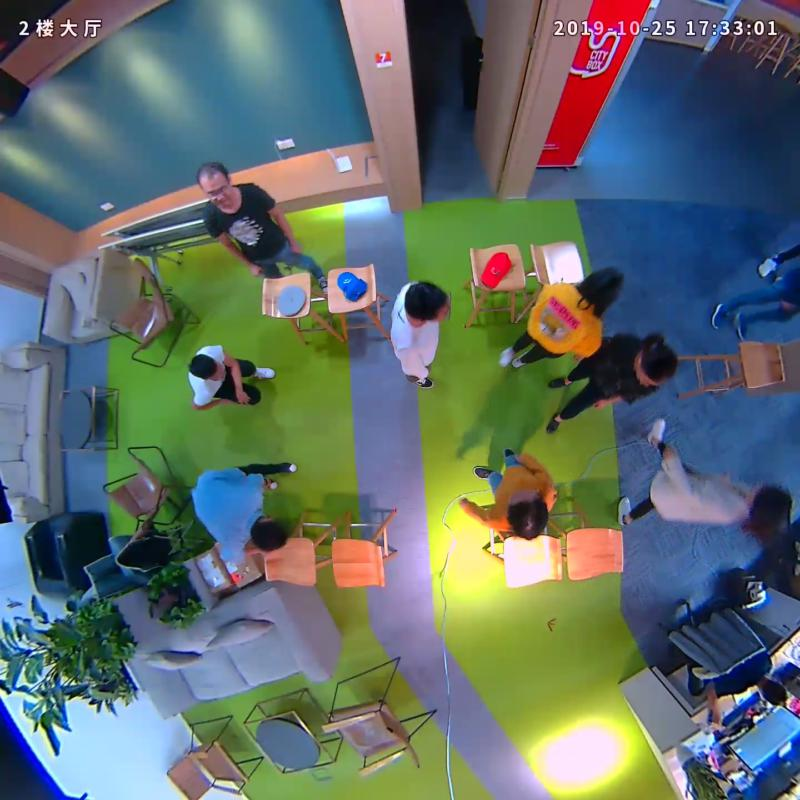head: (399, 273, 460, 332), (622, 335, 679, 395), (500, 490, 558, 543), (743, 479, 796, 537), (566, 262, 623, 315), (191, 159, 239, 211), (247, 510, 295, 561), (181, 349, 230, 385)
